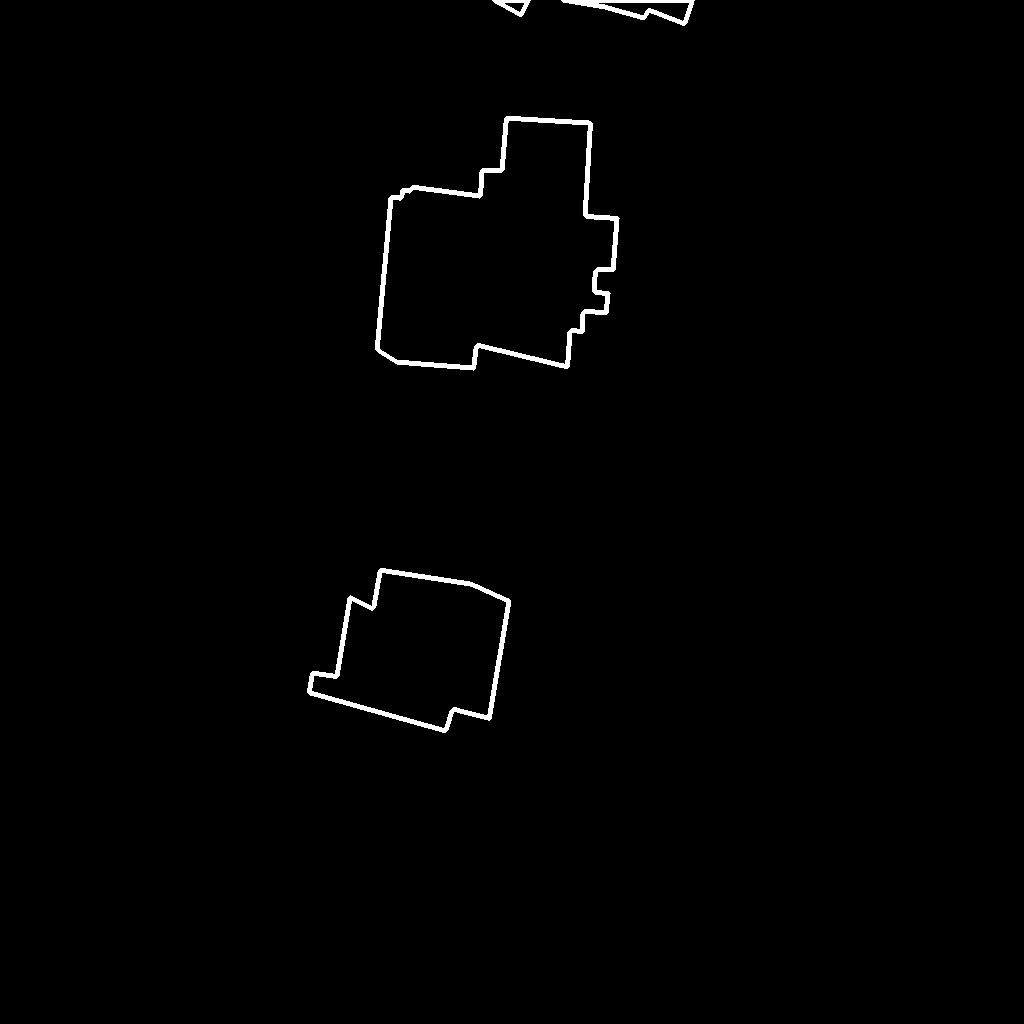building: (377, 118, 618, 369), (309, 570, 510, 732), (493, 0, 694, 25)
